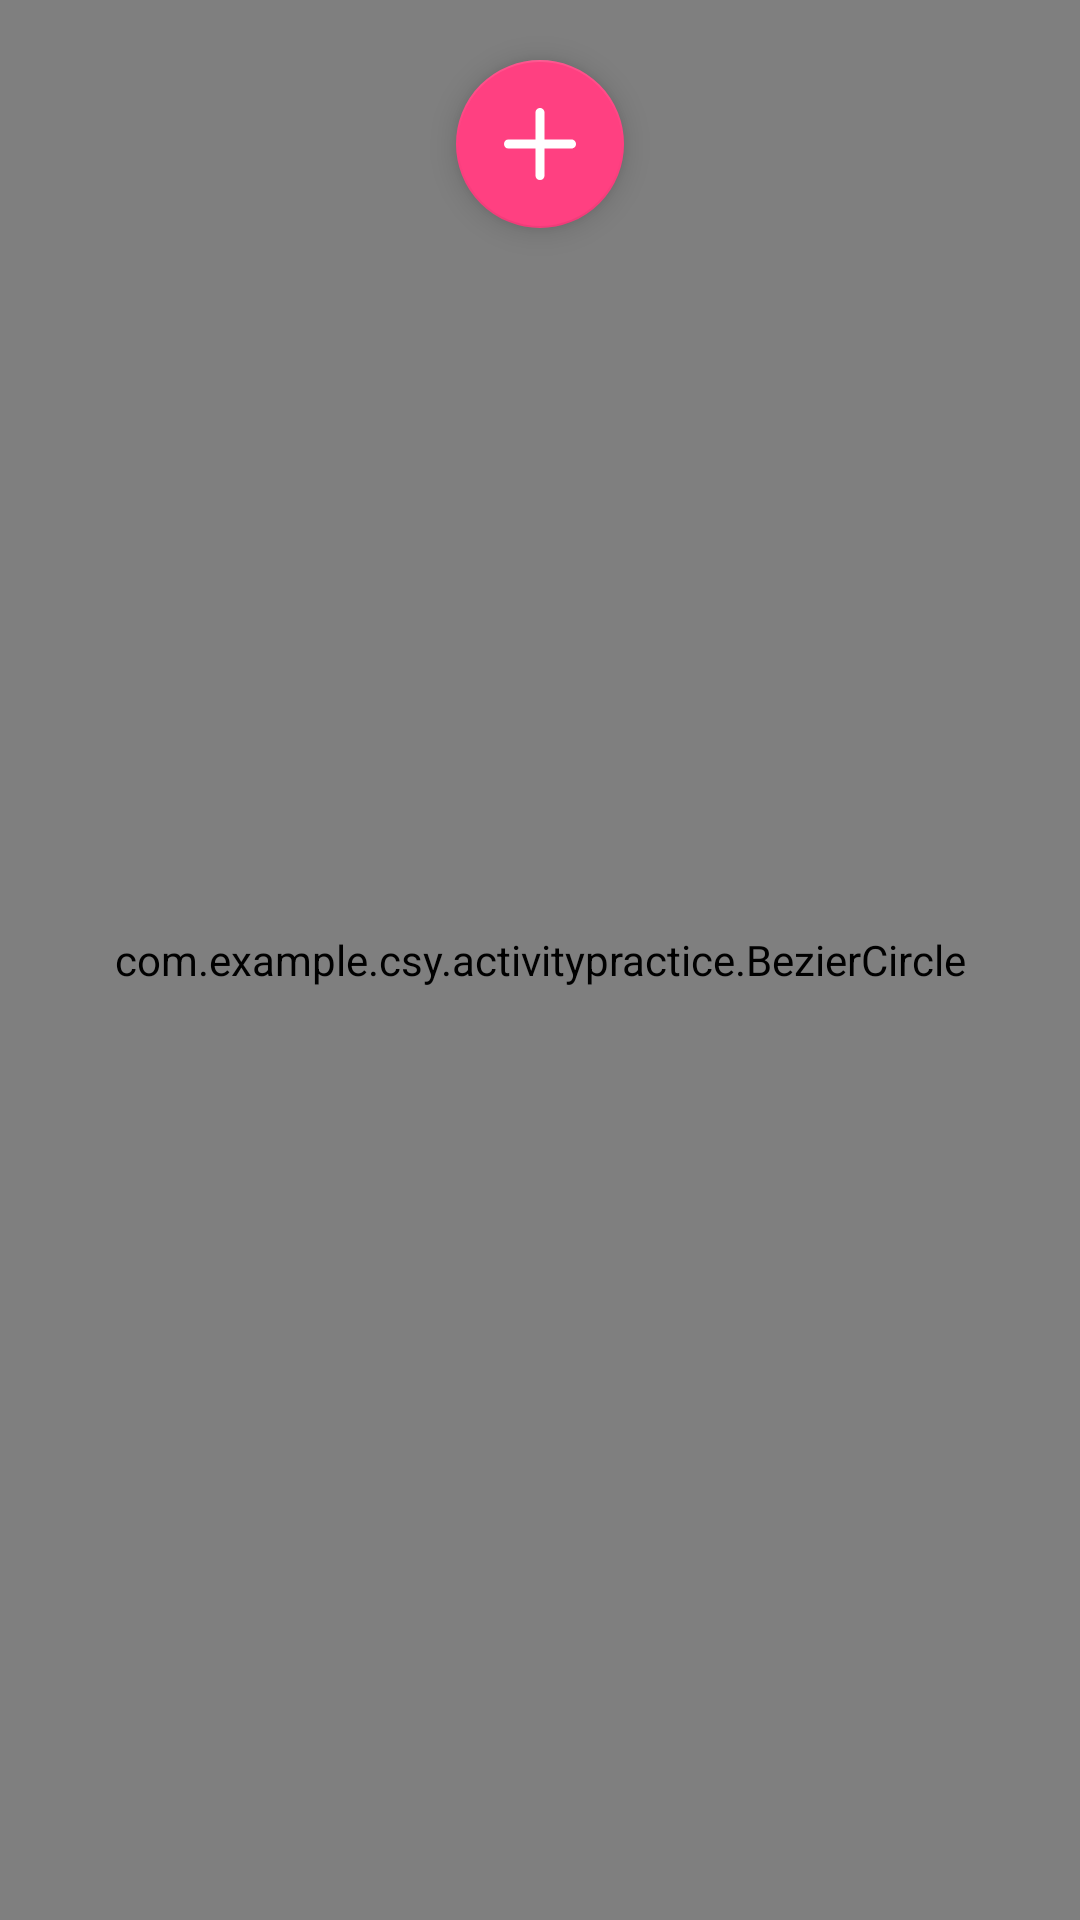

Point at icon controls on the screen. Image size 1080 × 1920, points as [x,y].
add: [540,144]
